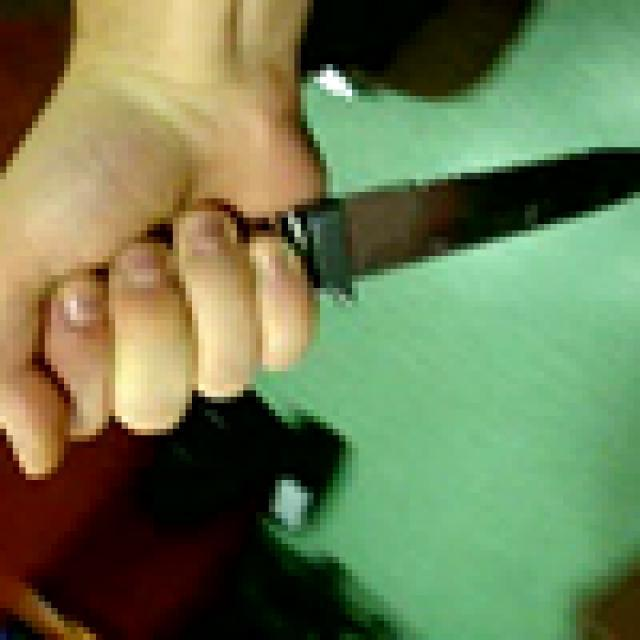Knife: (64, 141, 640, 397)
